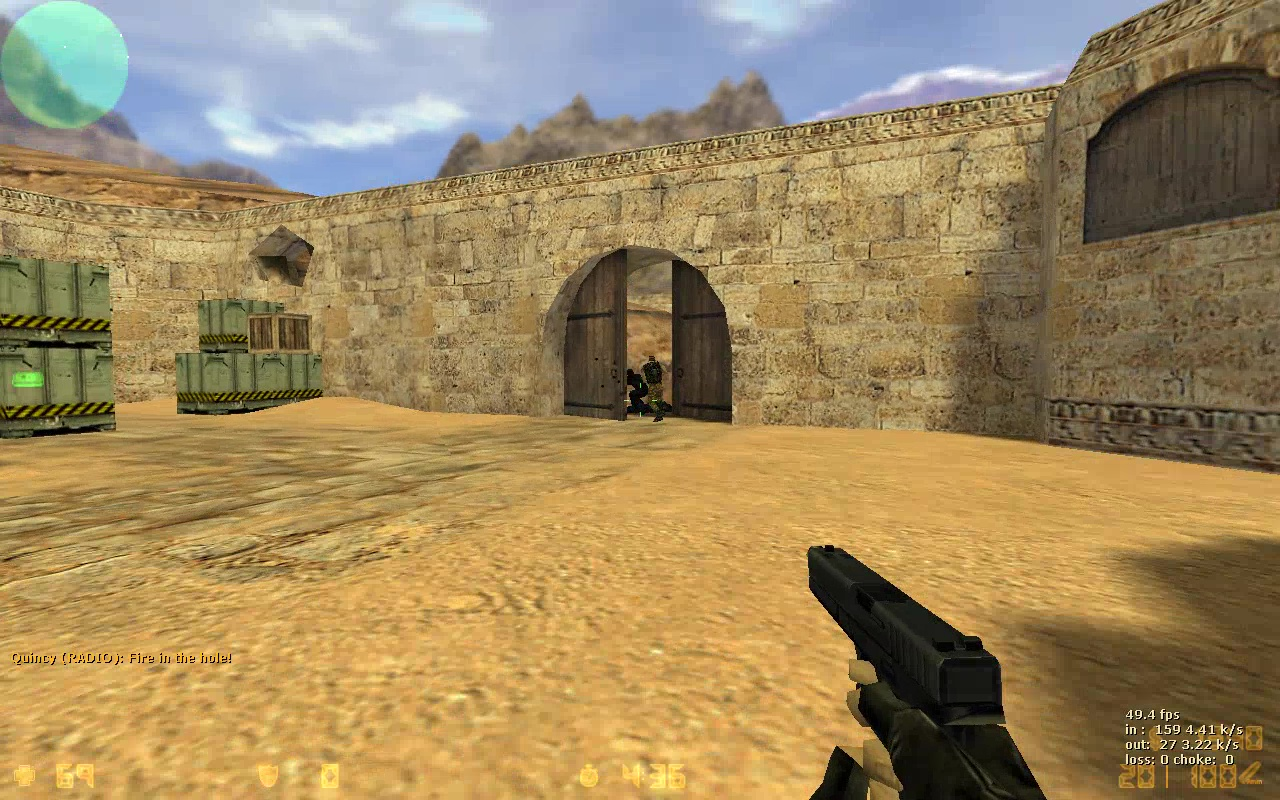ct: (626, 366, 647, 416)
terr1: (643, 356, 672, 425)
